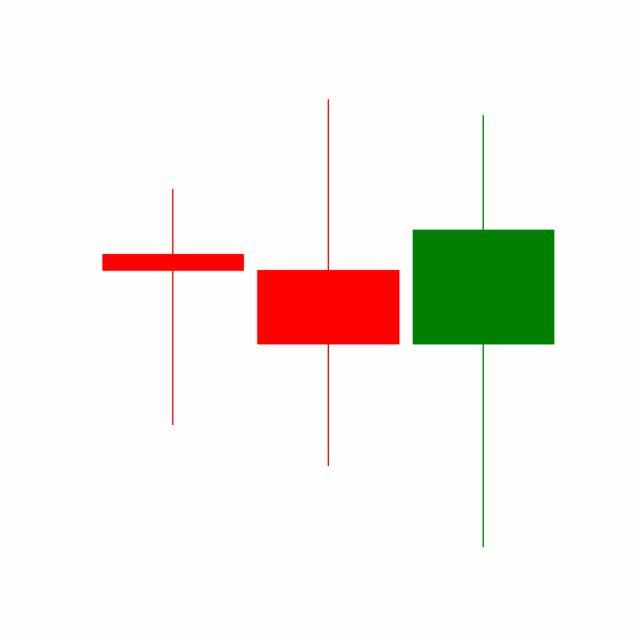Spinning Top: (250, 96, 407, 471)
